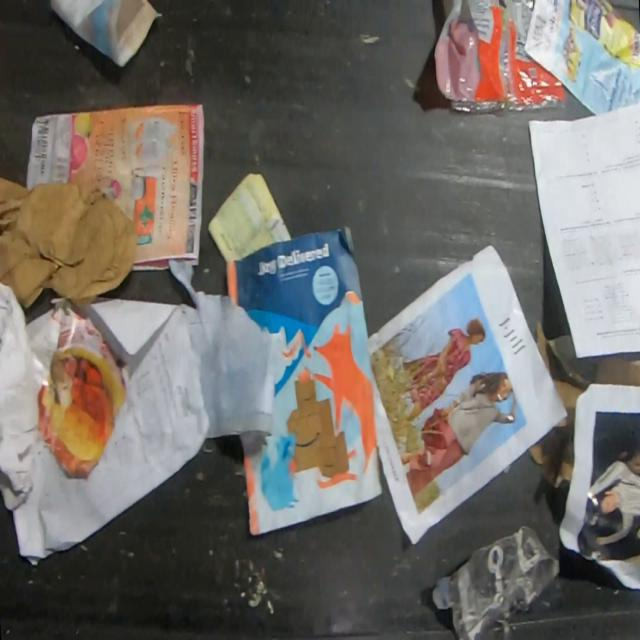soft_plastic: (433, 0, 567, 112)
